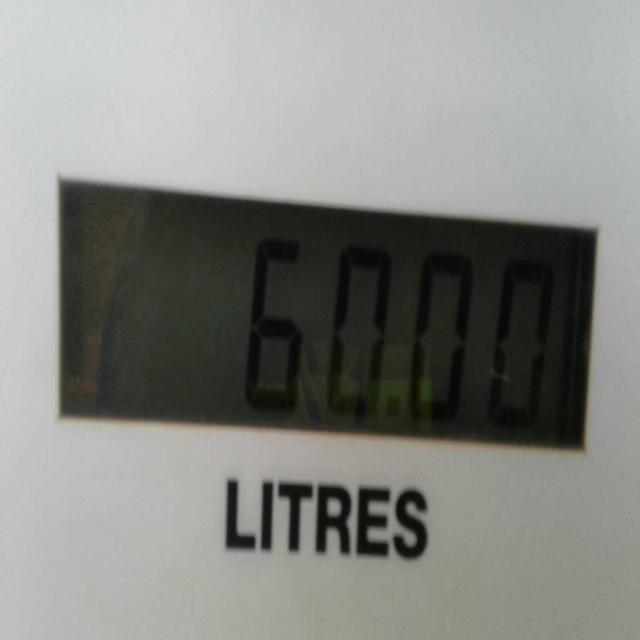.: (387, 403, 399, 422)
0: (410, 250, 473, 428), (492, 254, 552, 429), (328, 242, 384, 419)
6: (244, 221, 307, 416)
